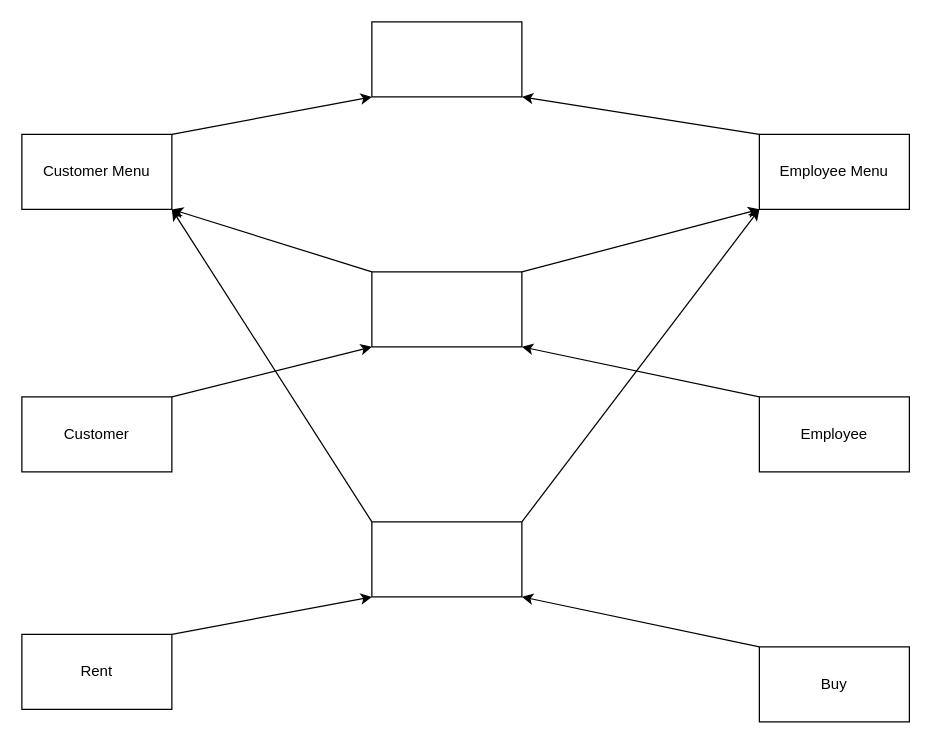
This 931x744 diagram has some shape labels left out. Each missing label, with the centre of its shape:
"Car" goes at [446,559].
"Main Choose Menu" goes at [446,59].
"Person" goes at [446,309].
